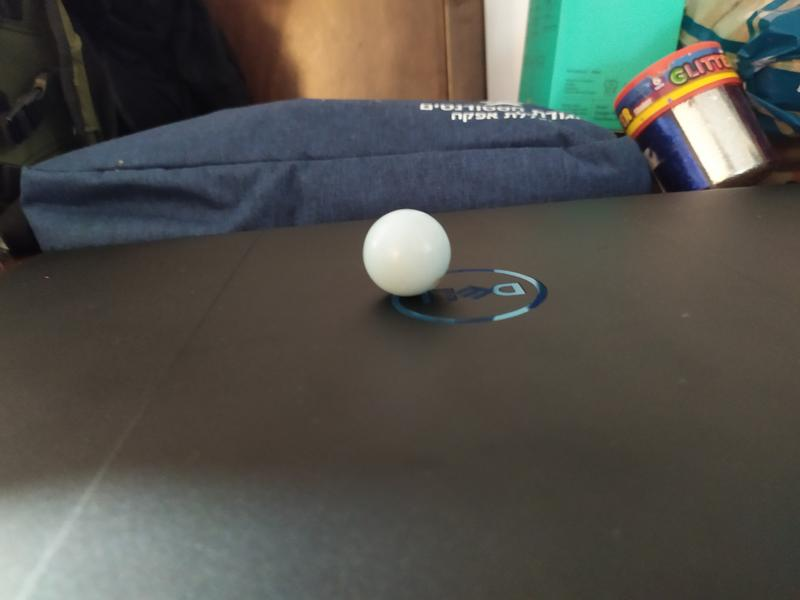Warning: (359, 207, 454, 299)
